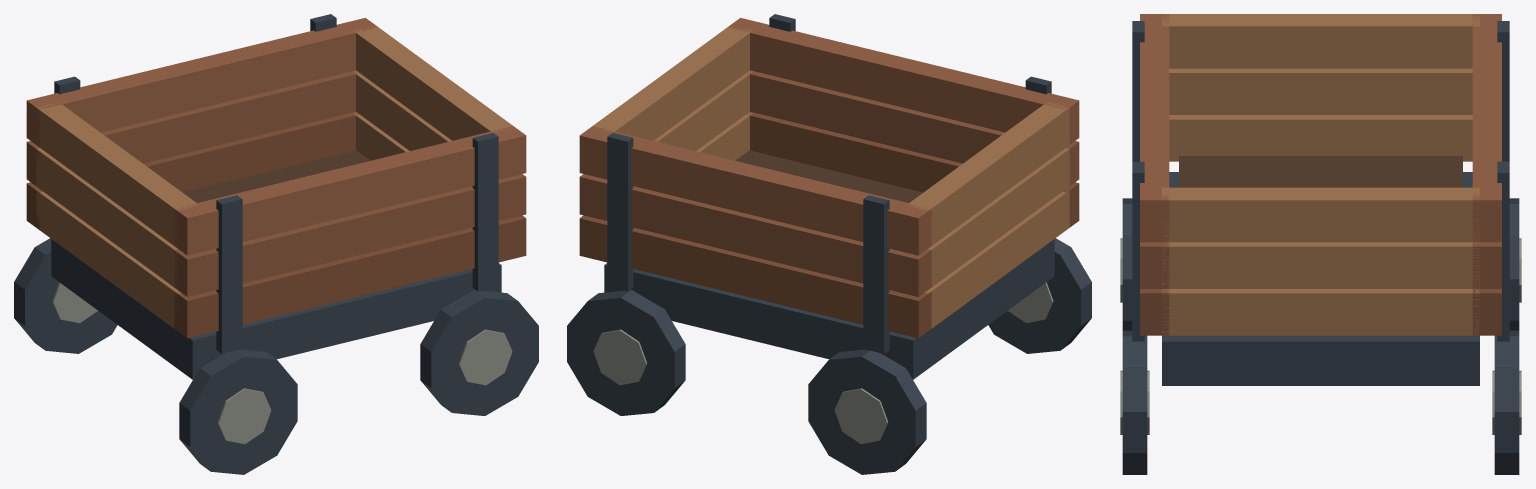
File: mine_cart.glb
3 views of the same model, side by side, from view 1: azimuth 30°, elevation 25°; view 2: azimuth 150°, elevation 25°; view 3: azimuth 270°, elevation 25° (orthographic). The views are drawn at different scales.
Visible parts, largest first — view 1: geometry; view 2: geometry; view 3: geometry.
Part boxes in pixels (x1,y1,x2,y2): geometry: [14, 14, 538, 474]; geometry: [567, 14, 1091, 474]; geometry: [1120, 14, 1521, 474].
Size of the model in its own units: 0.9253 by 0.69 by 0.82.
